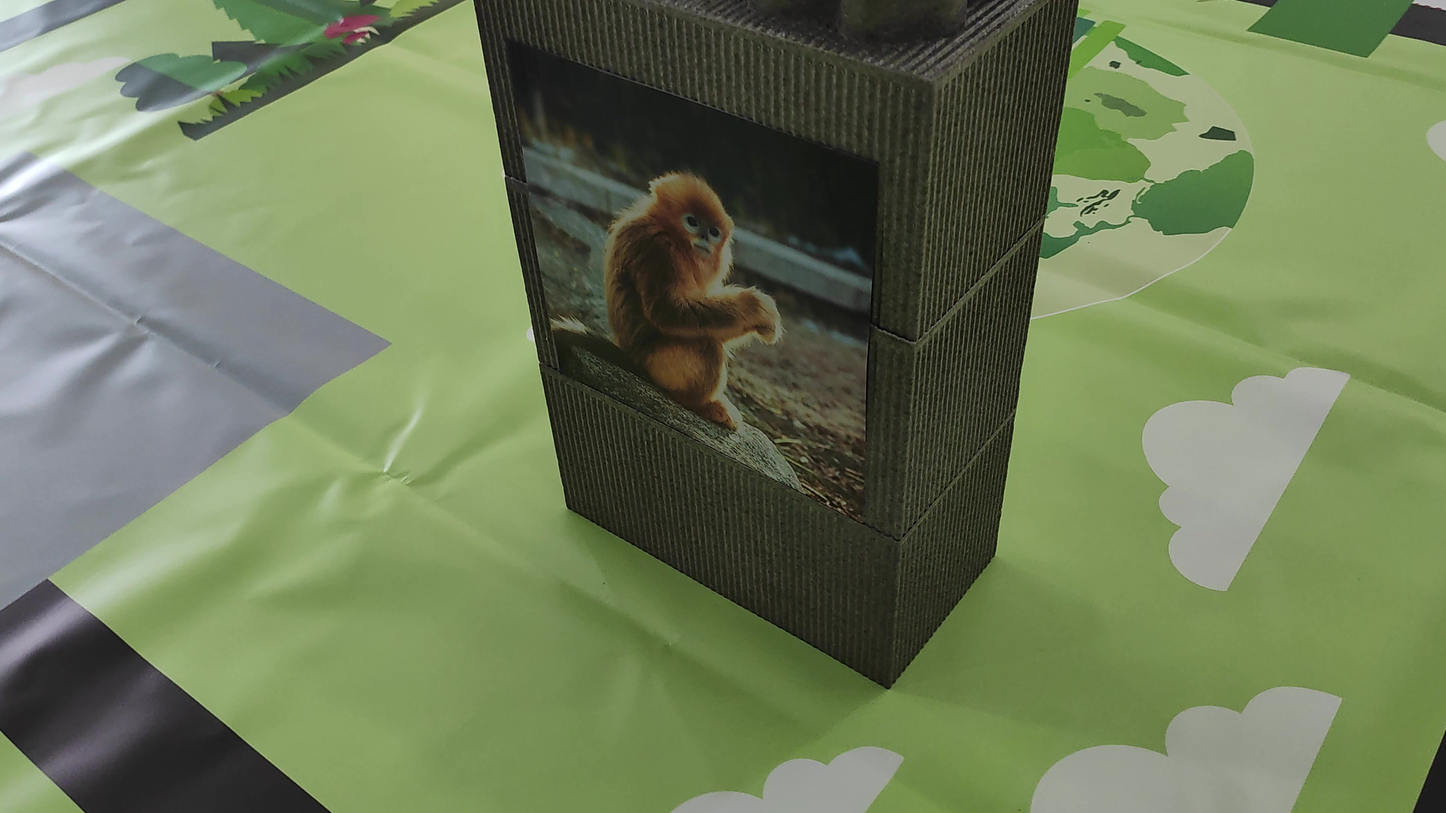monkey: (535, 145, 795, 450)
